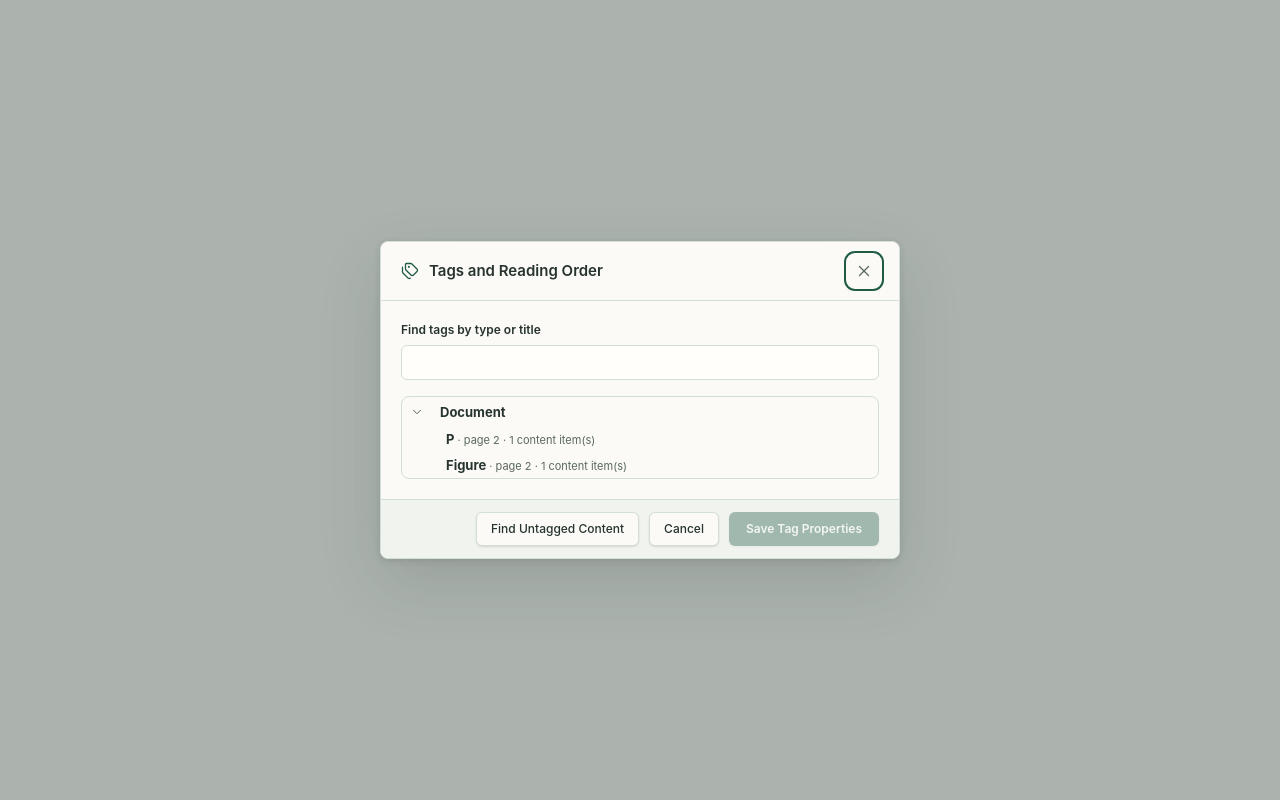
tags dialog › collapses tags, filters them and reports engine failures
Click the button named "Collapse Document".
click(417, 412)  # box [402,397,432,427]
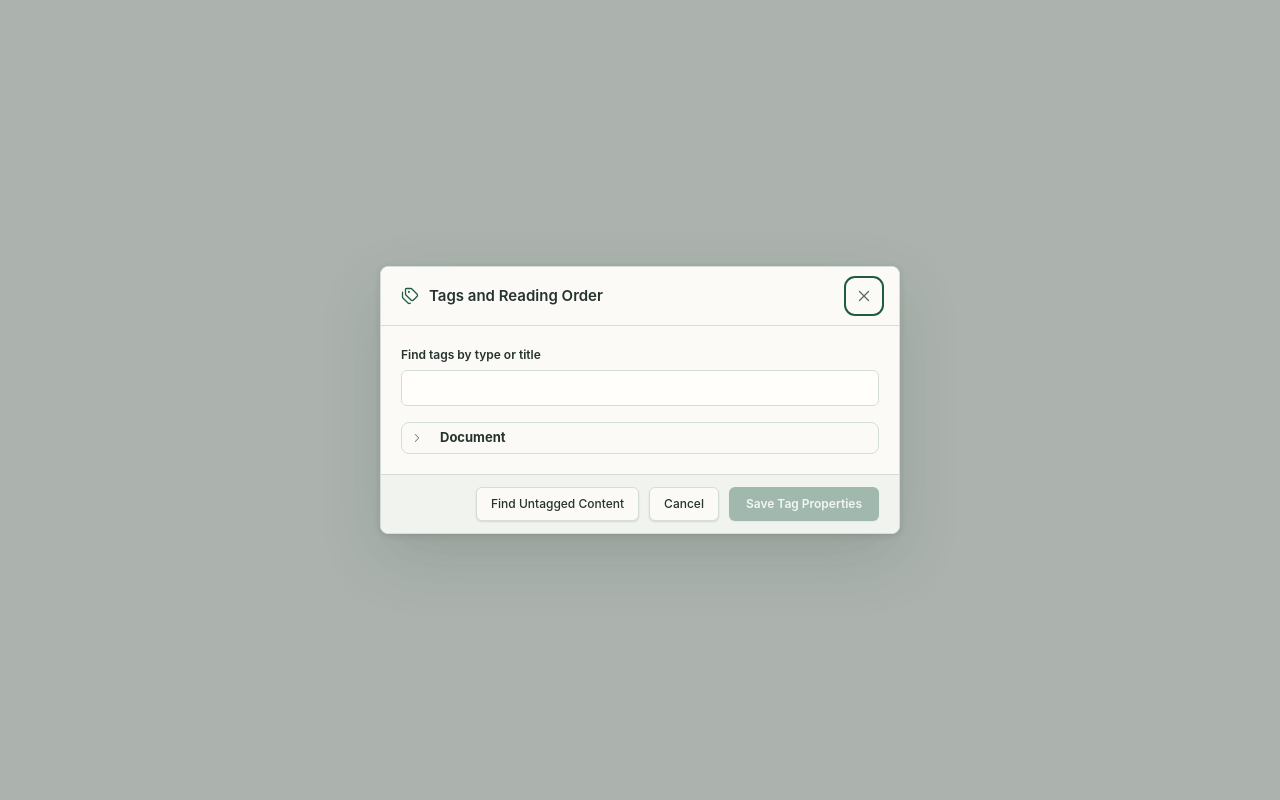
Expected: the button "Figure" is gone
Type "fig" into the field labelled "Find tags by type or title".
click(640, 388); type("fig")  # box [401,370,879,406]
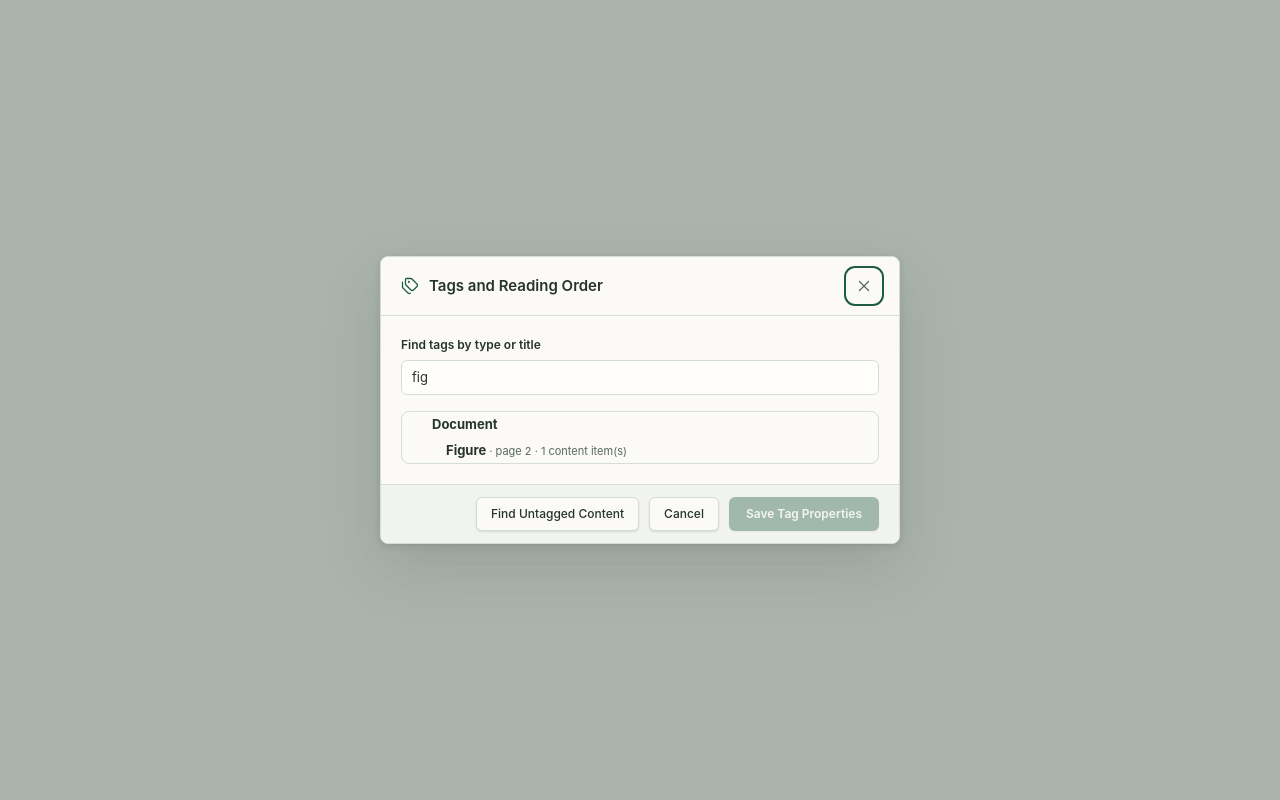
Click the text "Figure".
click(466, 450)  # box [446,442,486,458]
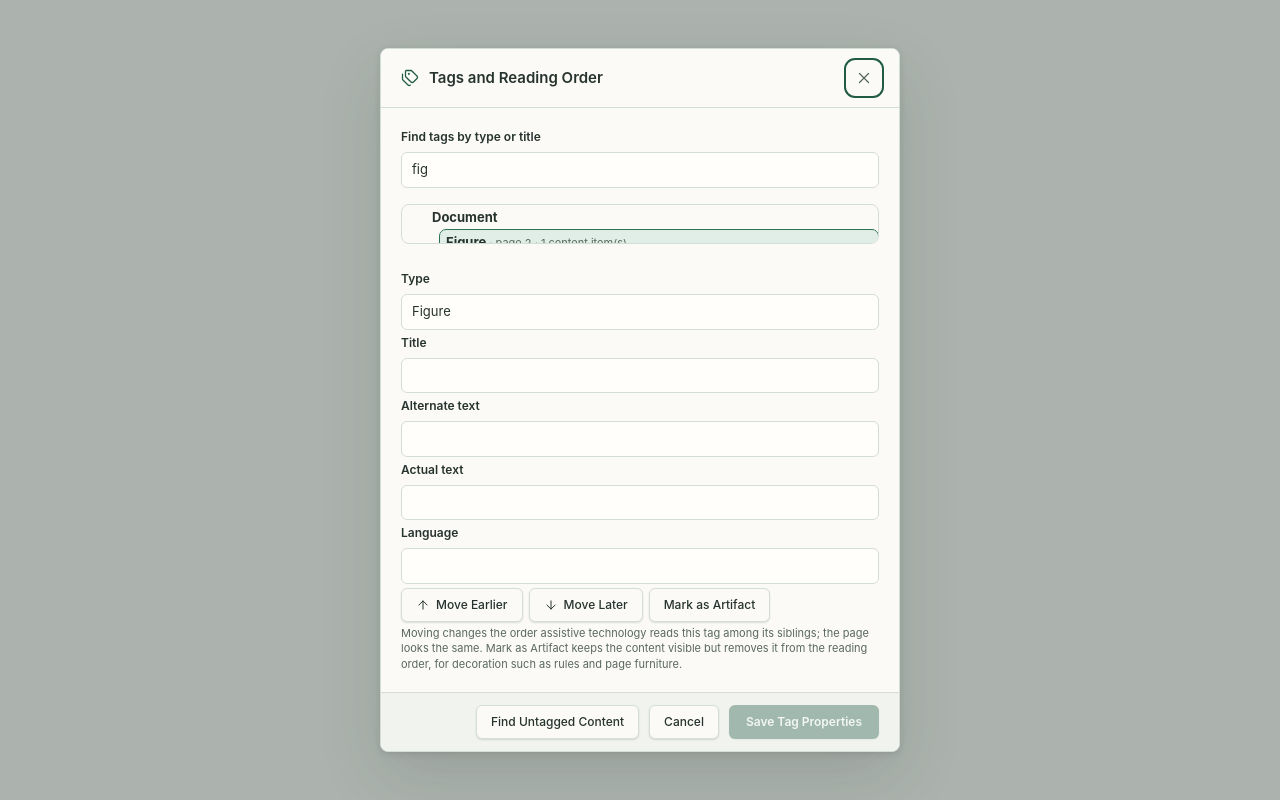
Click the button "Move Earlier".
click(462, 605)  # box [401,588,522,622]
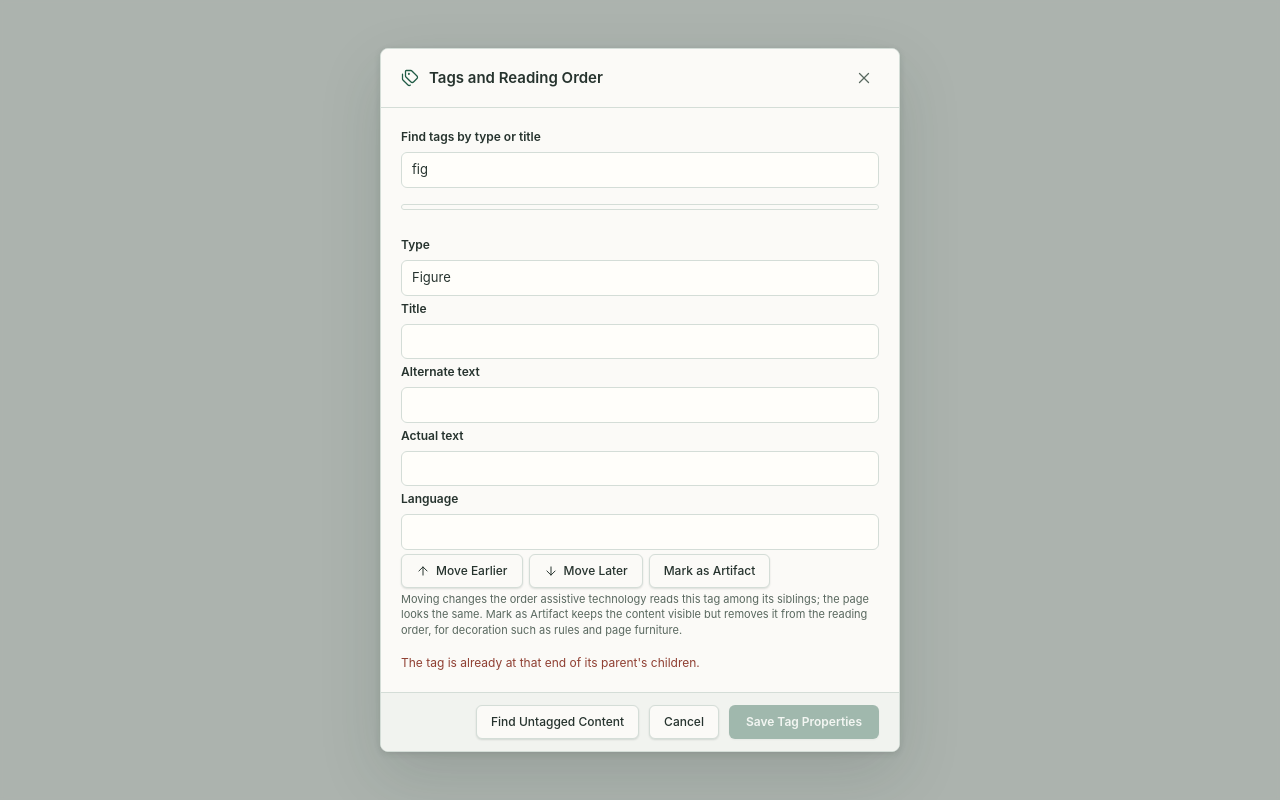
Expected: the message shows "already at that end", [401,655,700,670]
